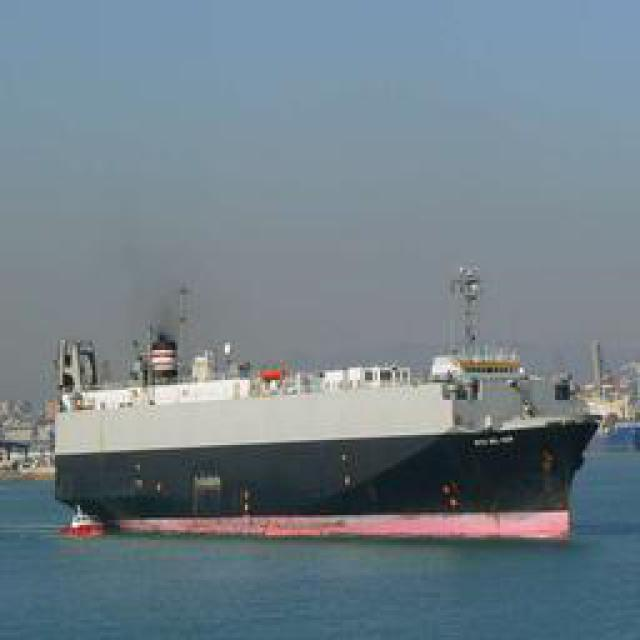Ship: (55, 314, 608, 529)
